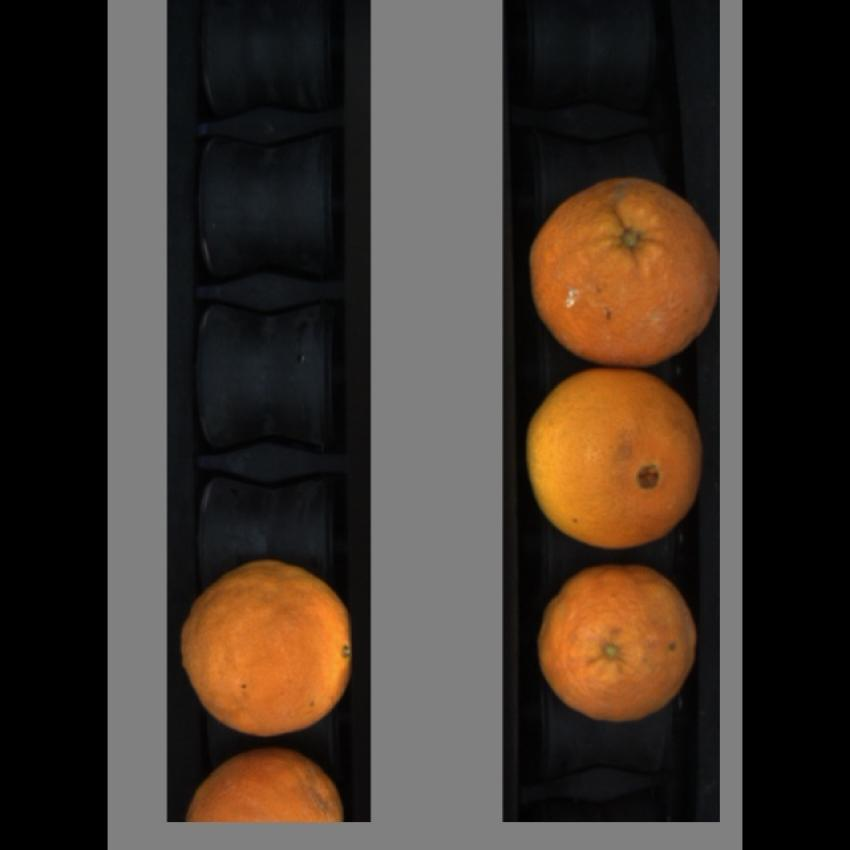Mal estado: (518, 170, 718, 367), (525, 368, 709, 557), (177, 559, 360, 737), (535, 568, 709, 728), (182, 749, 352, 828)
